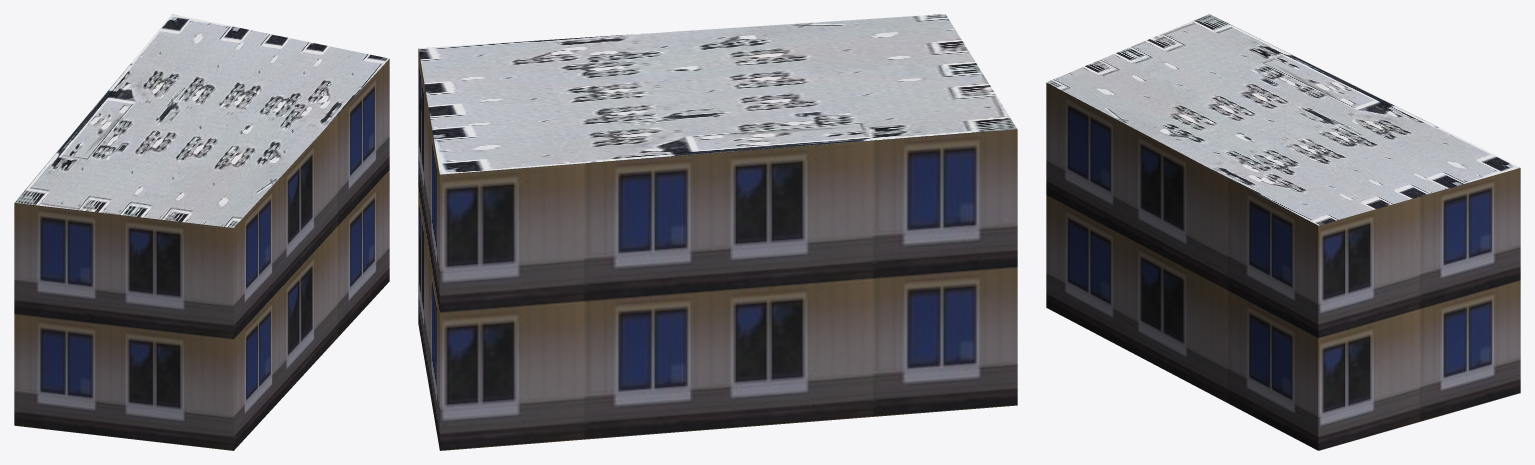
Rendered from ResTex__3501.fbx.
3 views of the same model, side by side, from view 1: azimuth 30°, elevation 25°; view 2: azimuth 150°, elevation 25°; view 3: azimuth 270°, elevation 25° (orthographic). The views are drawn at different scales.
Parts seen in each view (by area): view 1: CityEngineMaterial_5_m, CityEngineMaterial_4_m; view 2: CityEngineMaterial_5_m, CityEngineMaterial_4_m; view 3: CityEngineMaterial_5_m, CityEngineMaterial_4_m.
Boxes of the visible parts, x1=… form: CityEngineMaterial_5_m: x1=14, y1=59, x2=389, y2=450; CityEngineMaterial_4_m: x1=14, y1=14, x2=388, y2=227; CityEngineMaterial_5_m: x1=418, y1=48, x2=1017, y2=450; CityEngineMaterial_4_m: x1=418, y1=14, x2=1016, y2=174; CityEngineMaterial_5_m: x1=1046, y1=82, x2=1520, y2=450; CityEngineMaterial_4_m: x1=1046, y1=14, x2=1520, y2=225.
Bounding box in the file's own units: 12.09 × 6 × 11.45.
Materials: 2 (2 with a texture image).
